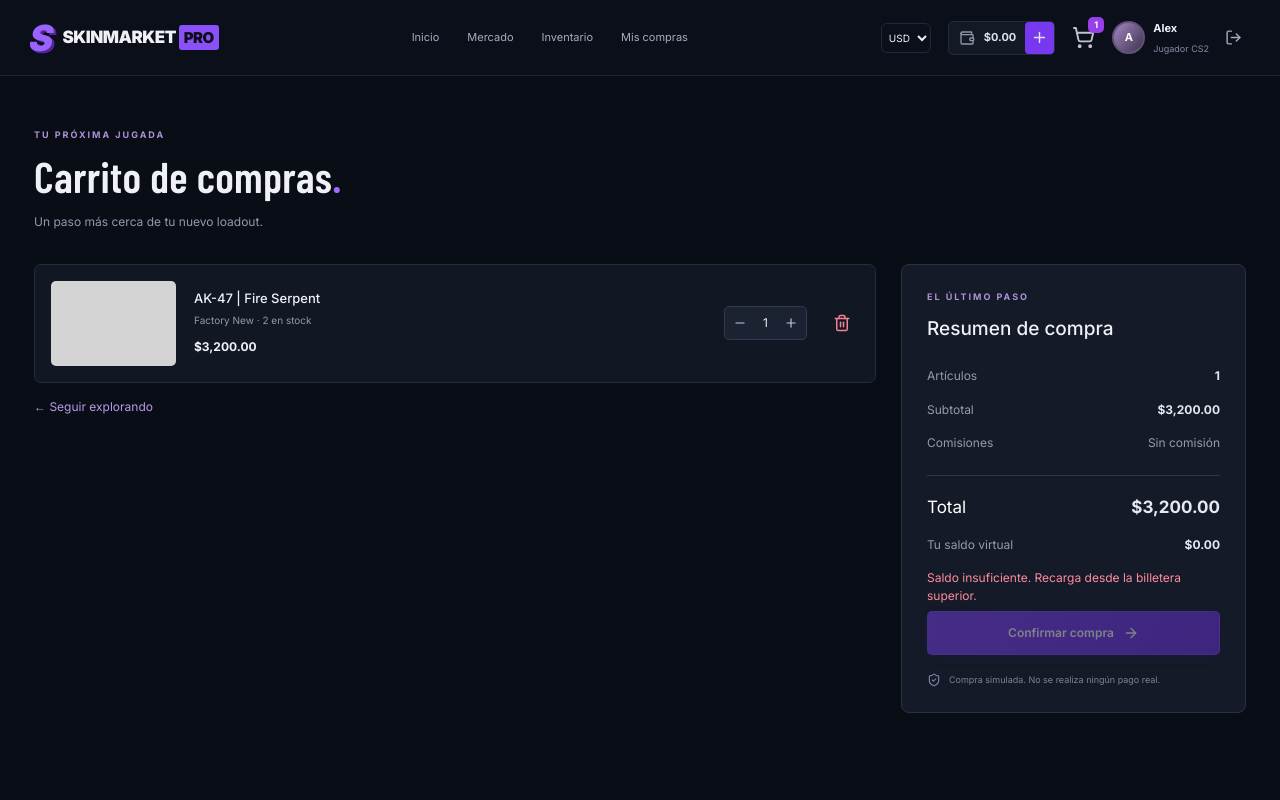
it: Pantallas y flujos del usuario › actualiza cantidades, elimina líneas y bloquea compra sin saldo
Expected: the button "Confirmar compra" is disabled, [927,611,1220,655]
Click the button named "Aumentar": (791, 323) [776,307,806,339]
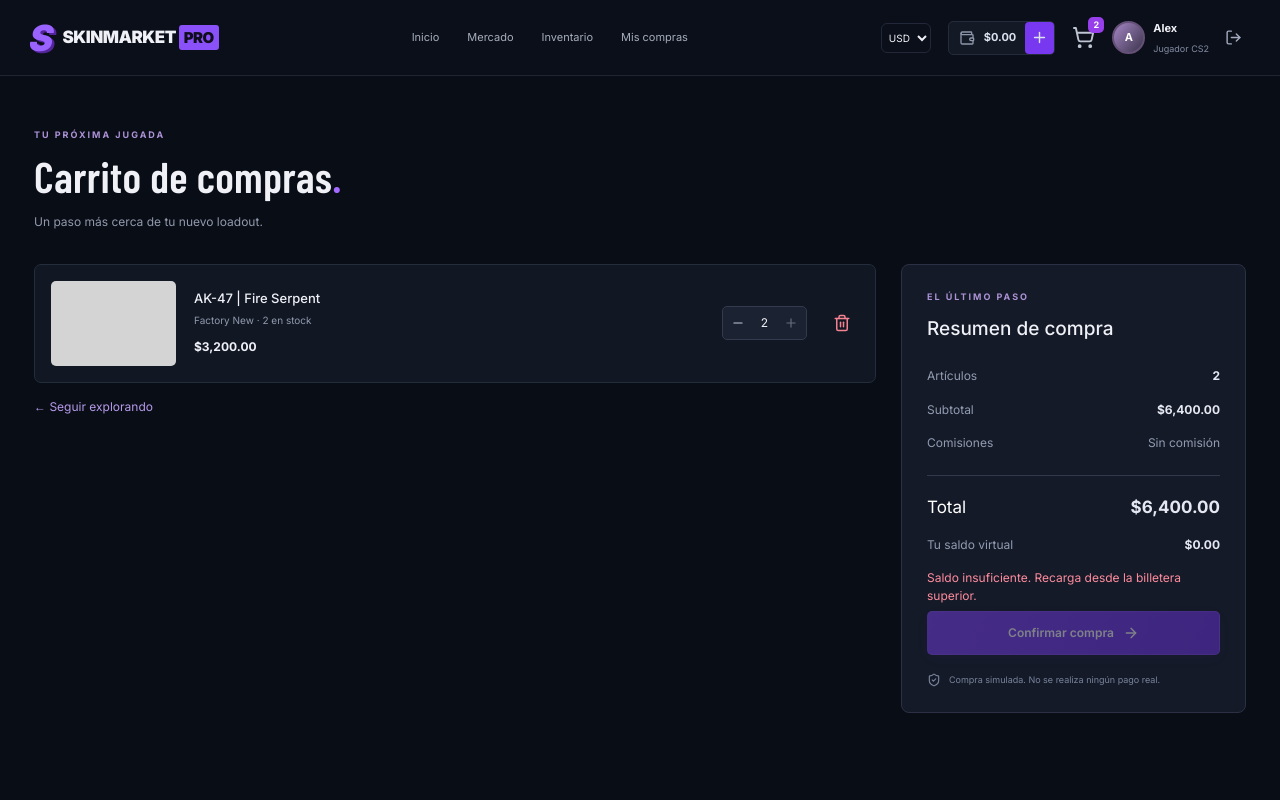
Click the button named "Reducir": (738, 323) [723,307,753,339]
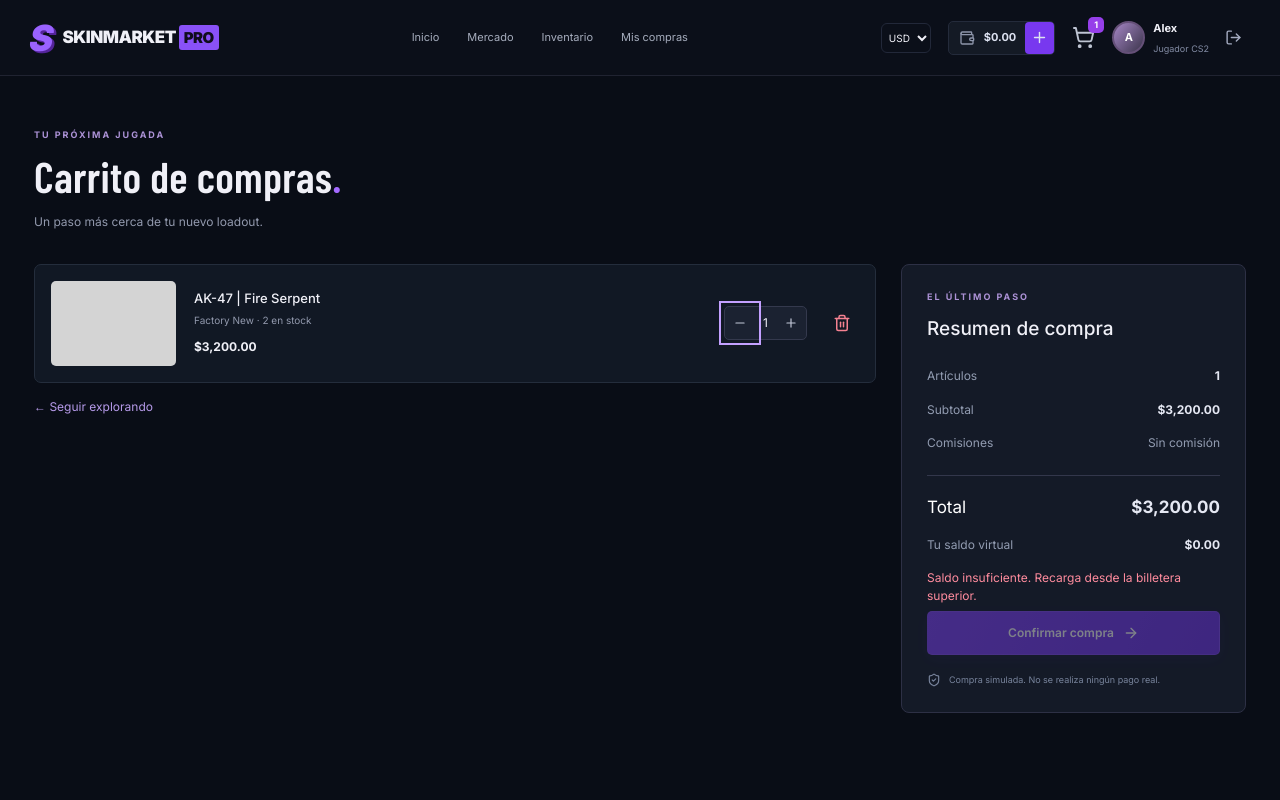
Click the button named "Quitar": (842, 323) [825,306,859,340]
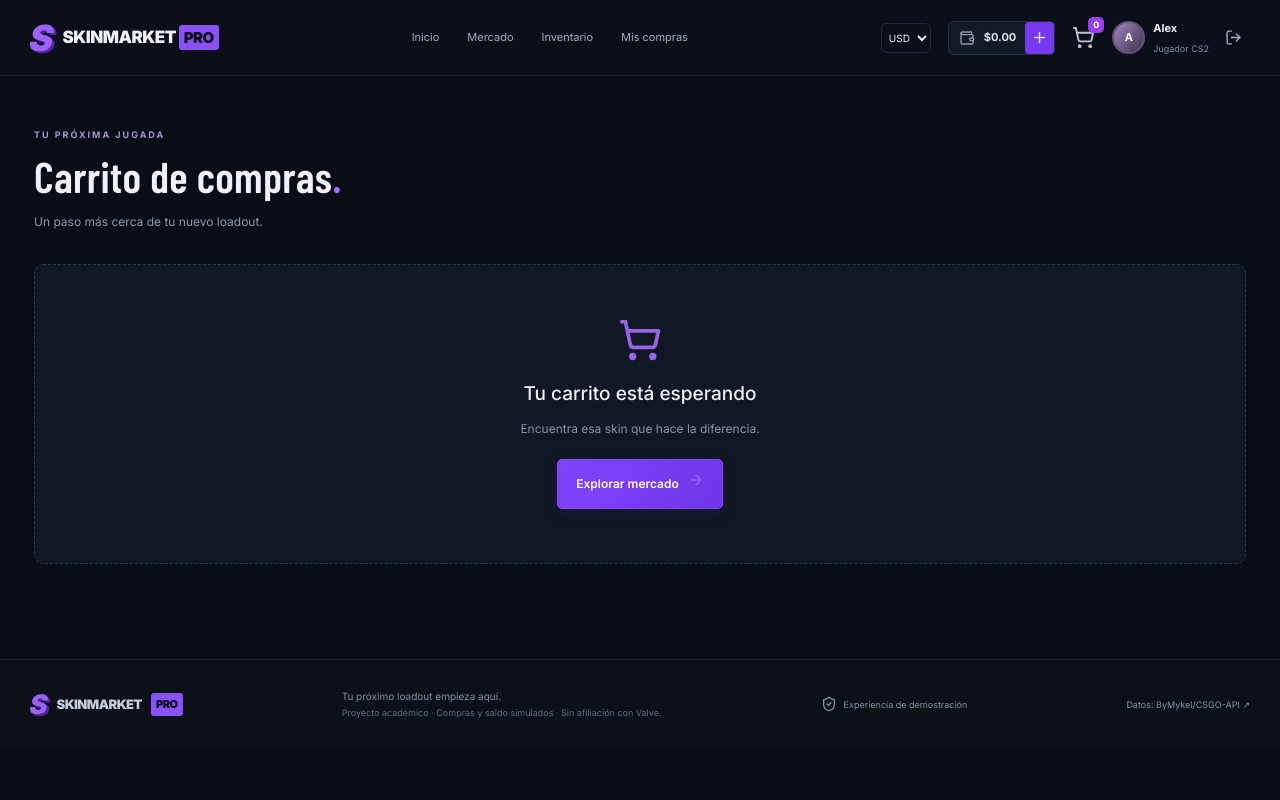
Expected: the heading "Tu carrito está esperando" is shown, [524,383,756,406]
